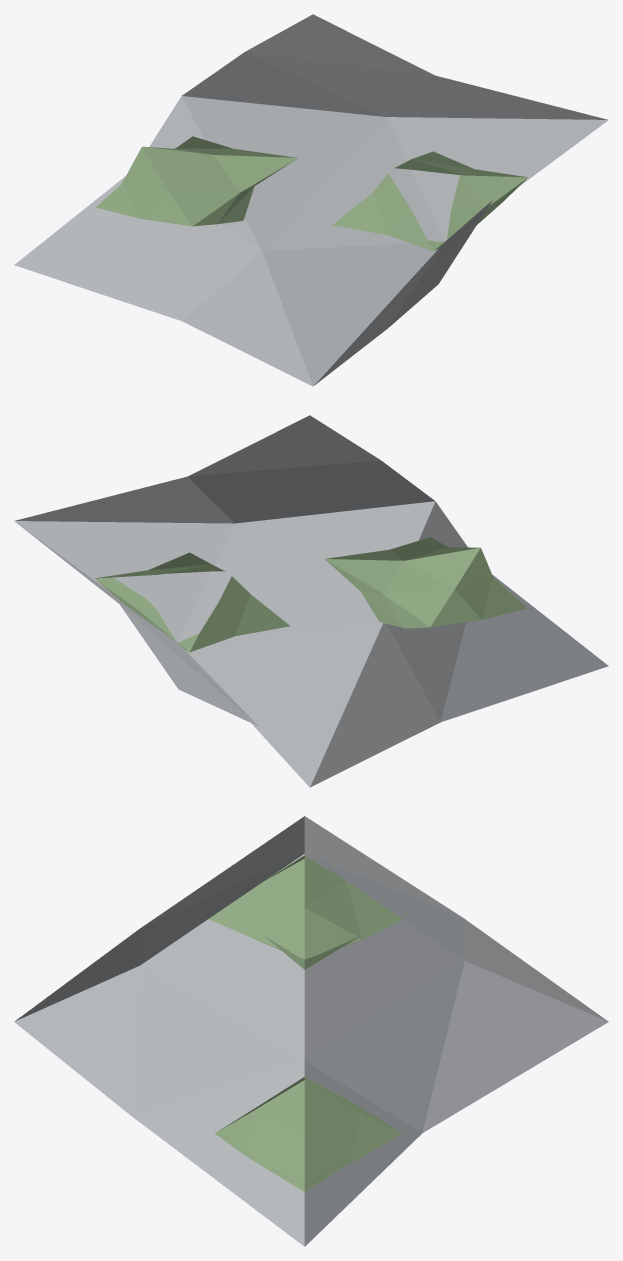
File: moss_rock_v15.glb
The picture shows the model from 3 angles, top to bottom: view 1: azimuth 30°, elevation 25°; view 2: azimuth 150°, elevation 25°; view 3: azimuth 270°, elevation 25°; orthographic projection. The views are drawn at different scales.
Parts seen in each view (by area): view 1: lod0; view 2: lod0; view 3: lod0.
Boxes of the visible parts, <box> form: lod0: <box>14,14,608,386</box>; lod0: <box>14,415,608,787</box>; lod0: <box>14,816,608,1246</box>.
Size of what is drawn, in the model's own units: 0.8656 by 0.5179 by 0.6479.
